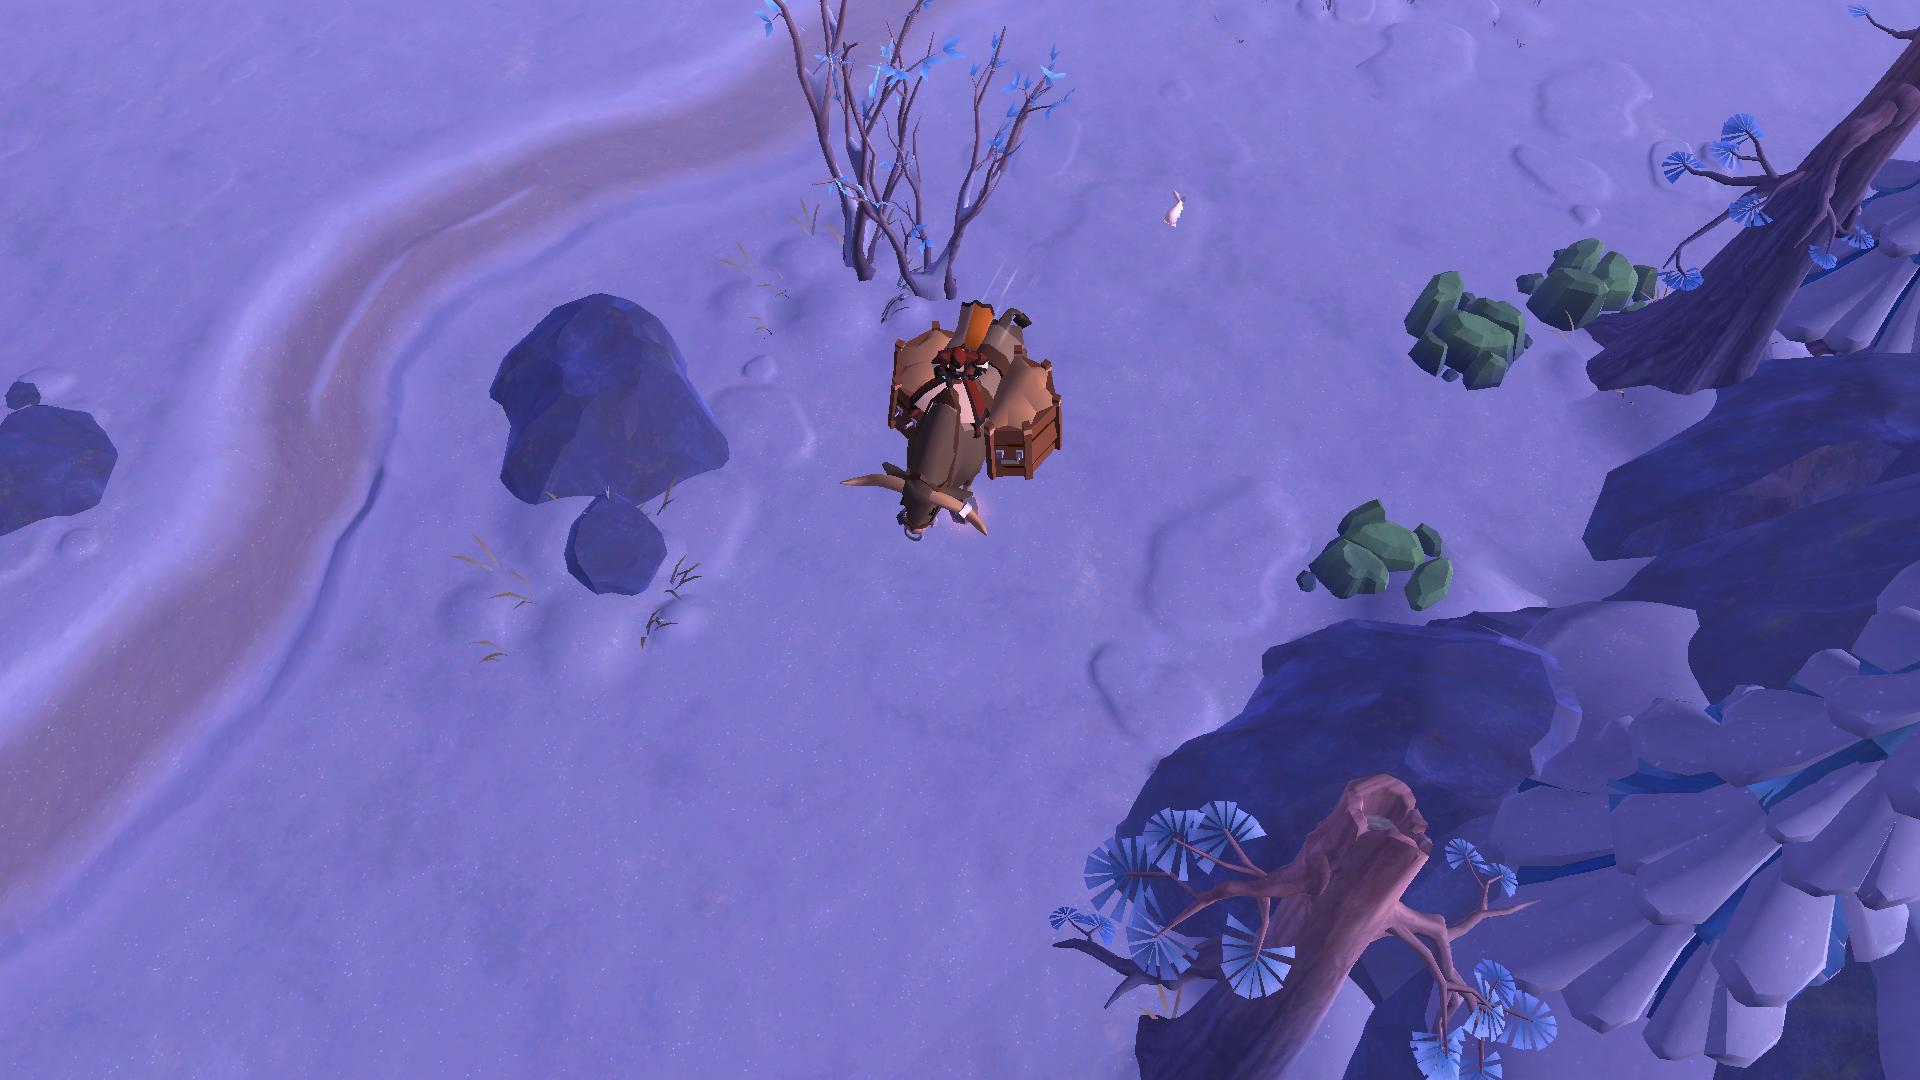rock_t3: (1311, 495, 1455, 618), (1398, 269, 1526, 389), (1523, 235, 1664, 336)
